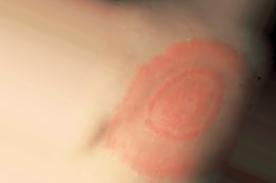Tick: (120, 48, 247, 182)
